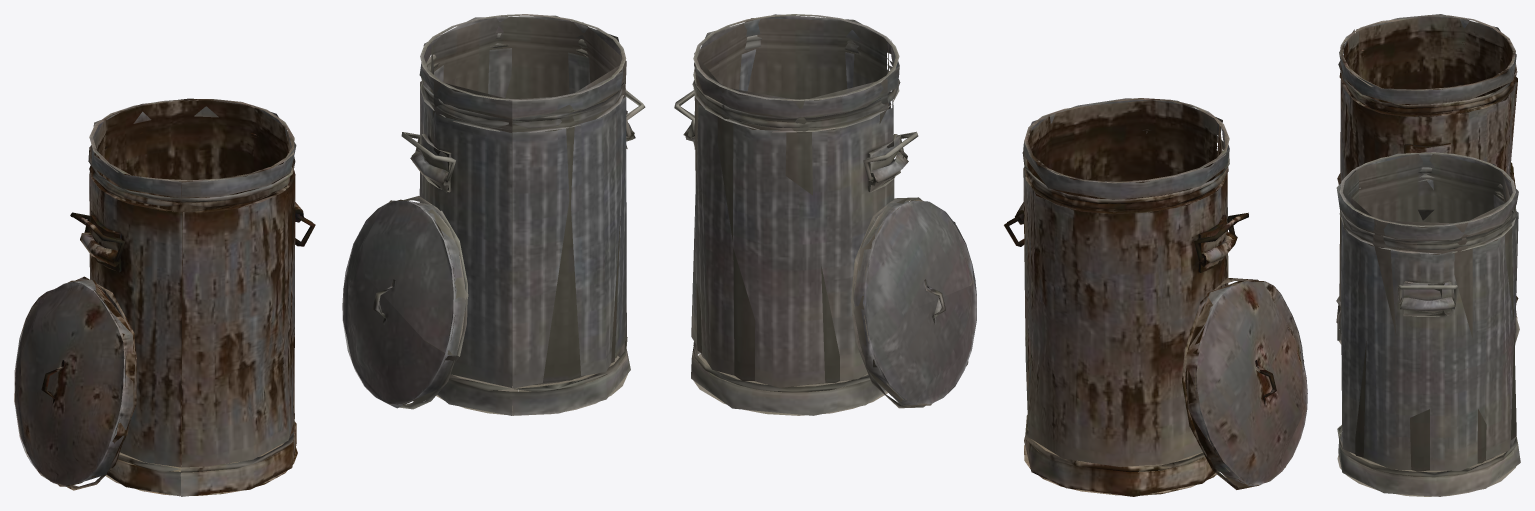
Rendered from metal_trash_can.glb.
3 renders of one model, left to right at view 1: azimuth 30°, elevation 25°; view 2: azimuth 150°, elevation 25°; view 3: azimuth 270°, elevation 25°, orthographic. The views are drawn at different scales.
Parts seen in each view (by area): view 1: metal_trash_can, metal_trash_can_rust, metal_trash_can_lid, metal_trash_can_rust_lid; view 2: metal_trash_can, metal_trash_can_rust, metal_trash_can_lid, metal_trash_can_rust_lid; view 3: metal_trash_can, metal_trash_can_rust, metal_trash_can_handle_right, metal_trash_can_lid.
Boxes of the visible parts, left/top/right/bottom form: metal_trash_can: left=410, top=14, right=635, bottom=415; metal_trash_can_rust: left=80, top=98, right=303, bottom=496; metal_trash_can_lid: left=342, top=196, right=468, bottom=409; metal_trash_can_rust_lid: left=14, top=276, right=136, bottom=490; metal_trash_can: left=683, top=14, right=908, bottom=415; metal_trash_can_rust: left=1015, top=98, right=1237, bottom=496; metal_trash_can_lid: left=851, top=197, right=976, bottom=408; metal_trash_can_rust_lid: left=1182, top=277, right=1307, bottom=489; metal_trash_can: left=1336, top=152, right=1520, bottom=496; metal_trash_can_rust: left=1336, top=14, right=1518, bottom=322; metal_trash_can_handle_right: left=1397, top=284, right=1457, bottom=304; metal_trash_can_lid: left=1337, top=310, right=1519, bottom=344.
Size of the model in its own units: 1.78 by 0.9065 by 0.5636.
3 materials, 3 textured.
